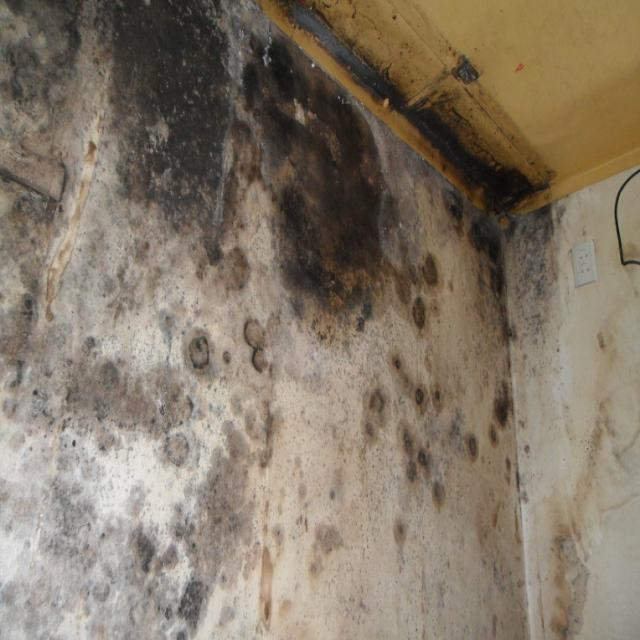dampness: (25, 2, 621, 401)
